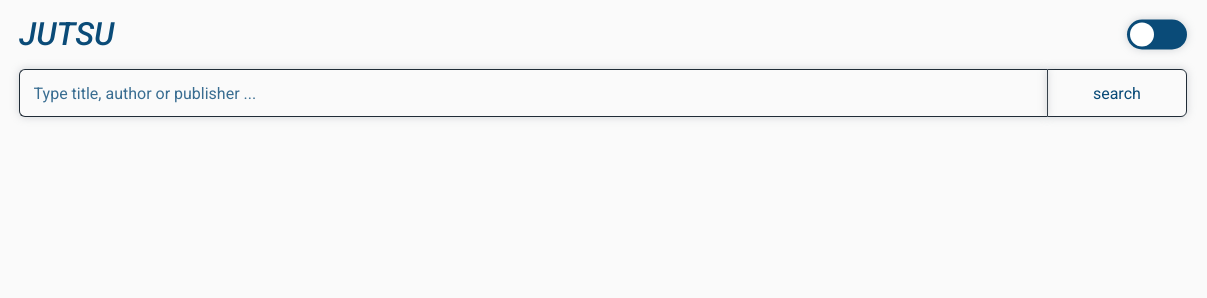
App › should render the error element if the response is rejected
In the search field: (533, 93) top-left (19, 69), bottom-right (1047, 117), type "Query"
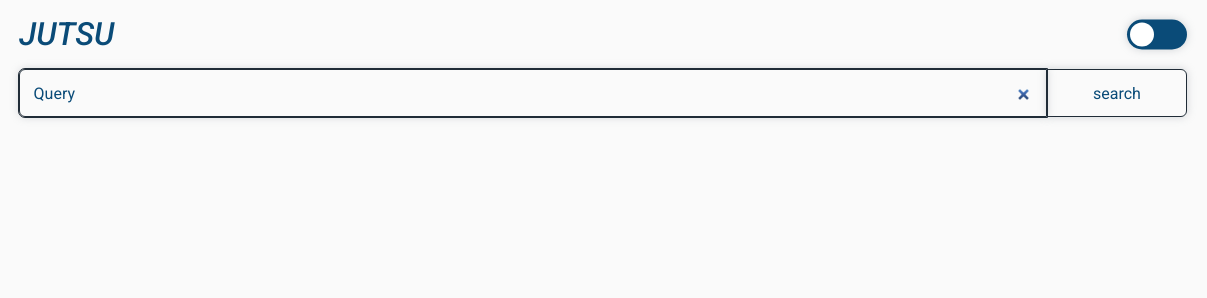
Click the button "search": (1117, 93) top-left (1047, 69), bottom-right (1187, 117)
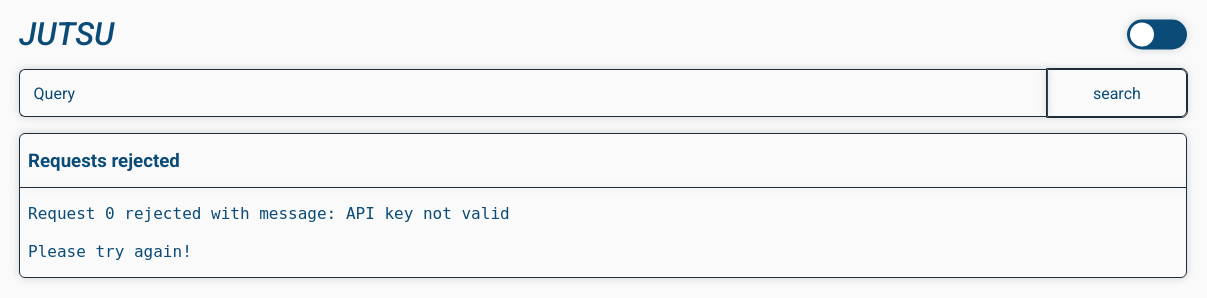
Expected: the text "API key not valid" is shown, top-left (28, 204), bottom-right (519, 223)
